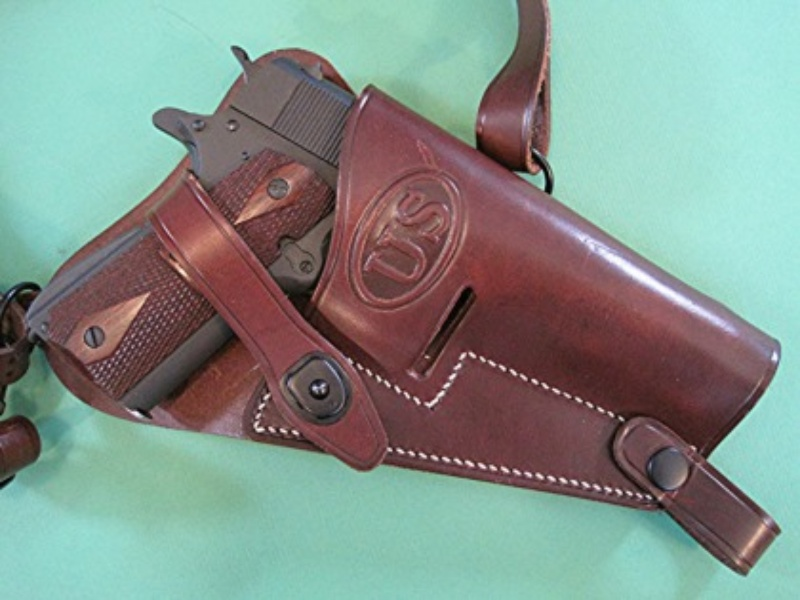gun: (26, 55, 359, 404)
